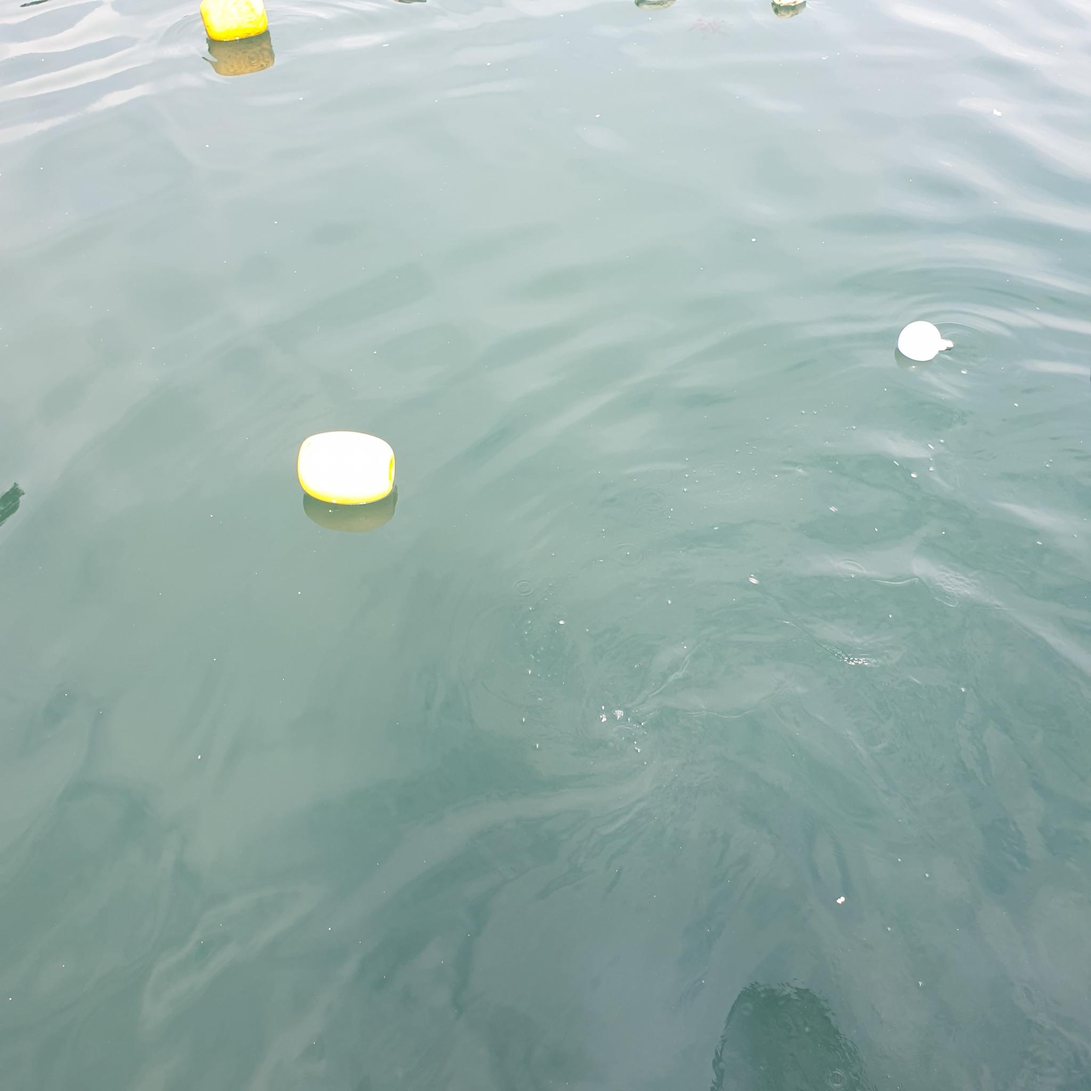sampah_terapung: (298, 431, 396, 506), (201, 1, 269, 42), (898, 321, 954, 362)
